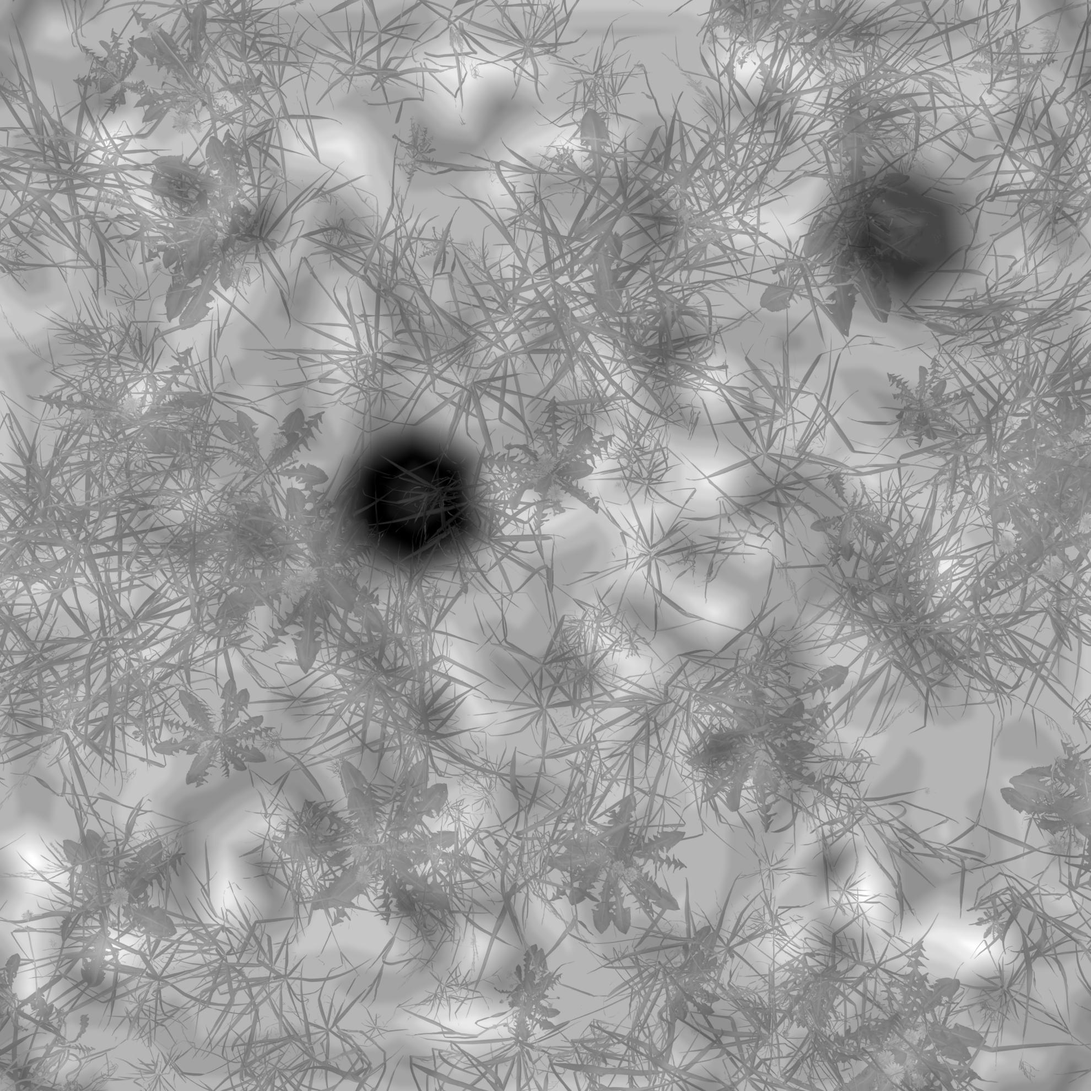landmine: (333, 433, 491, 580), (826, 166, 960, 304)
